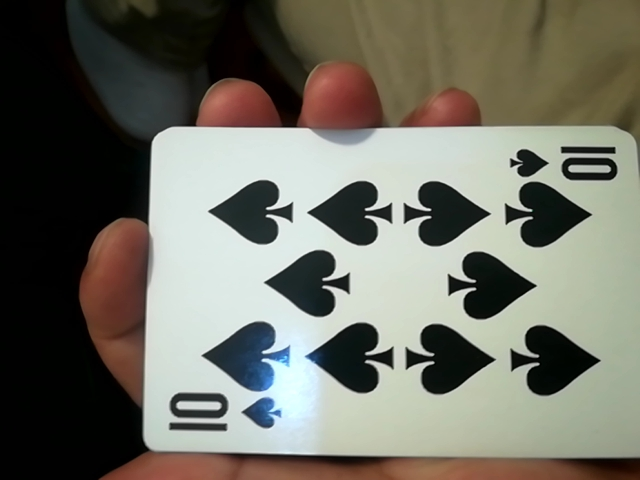ht 10: (132, 120, 627, 470)
